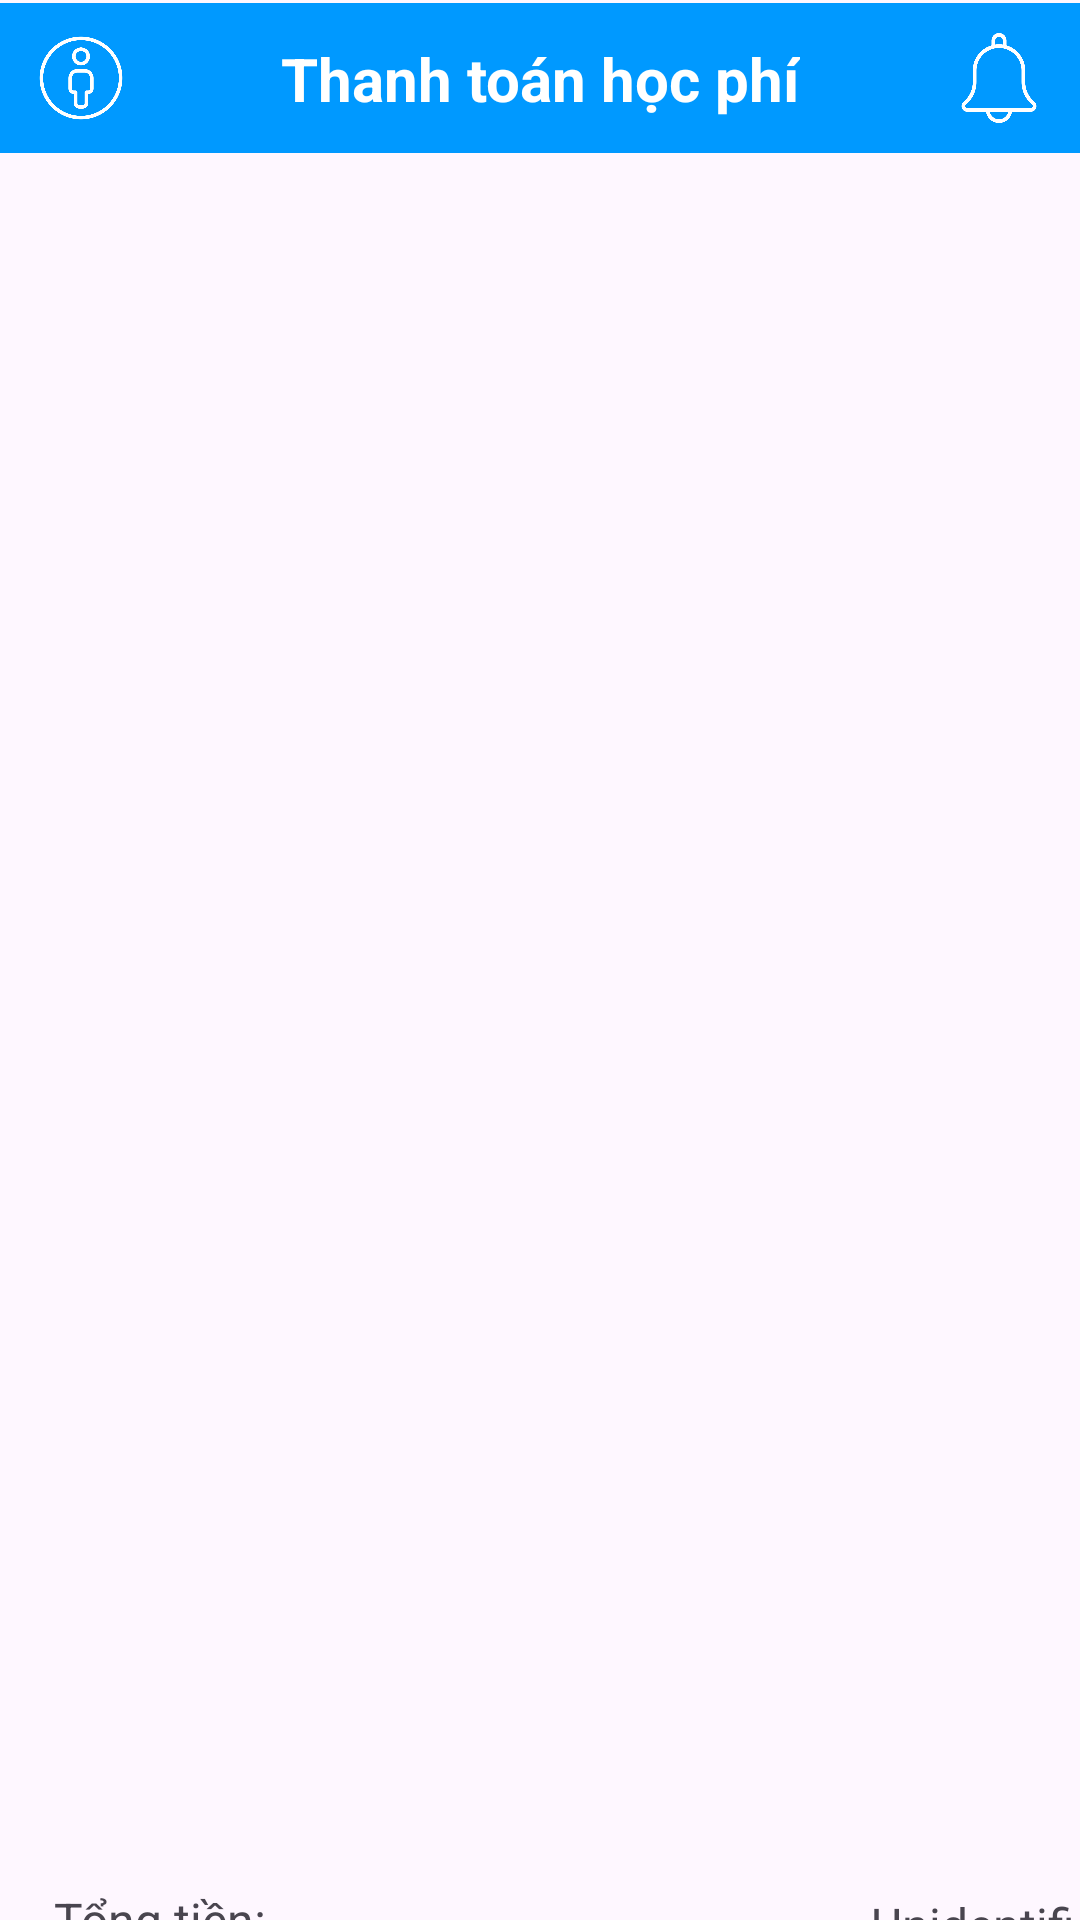

Icons on this 1080x1920 Android screen, each with the point to tap as (x,y):
bell: (999,78)
